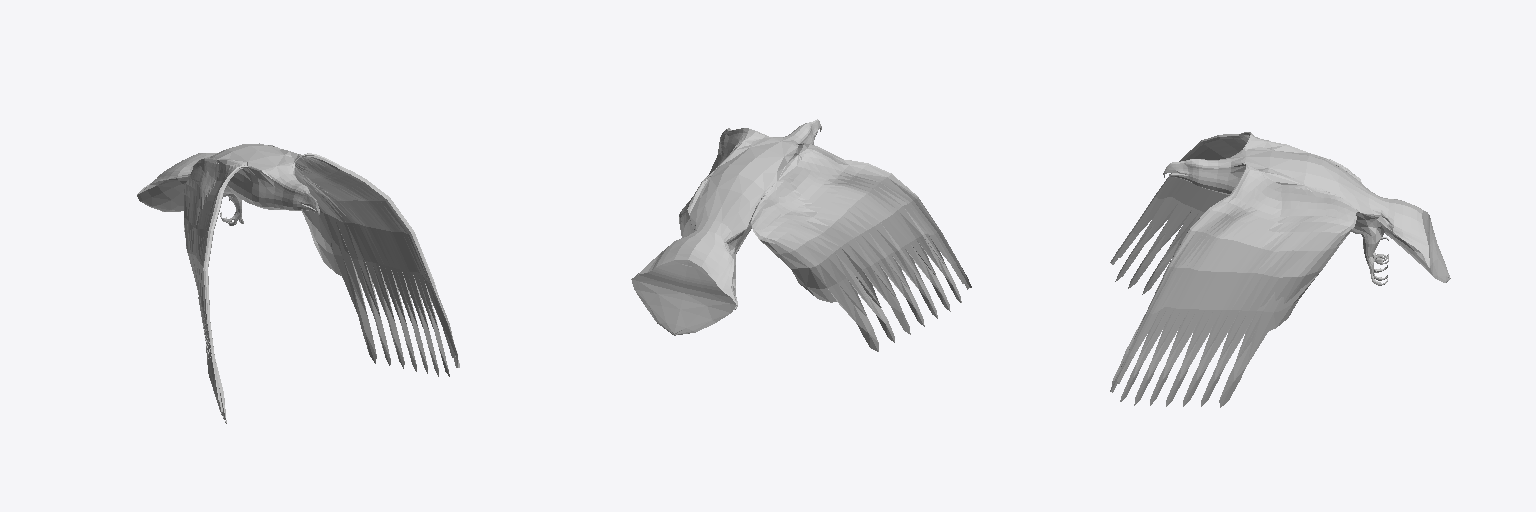
The model's file is Eagle3.obj.
3 views of the same model, side by side, from view 1: azimuth 30°, elevation 25°; view 2: azimuth 150°, elevation 25°; view 3: azimuth 270°, elevation 25° (orthographic).
Visible parts, largest first — view 1: Flugel; view 2: Flugel; view 3: Flugel.
Boxes of the visible parts, x1=… form: Flugel: x1=137, y1=143, x2=459, y2=423; Flugel: x1=631, y1=119, x2=971, y2=351; Flugel: x1=1110, y1=132, x2=1450, y2=407.
Size of the model in its own units: 5.33 by 4.62 by 6.6.